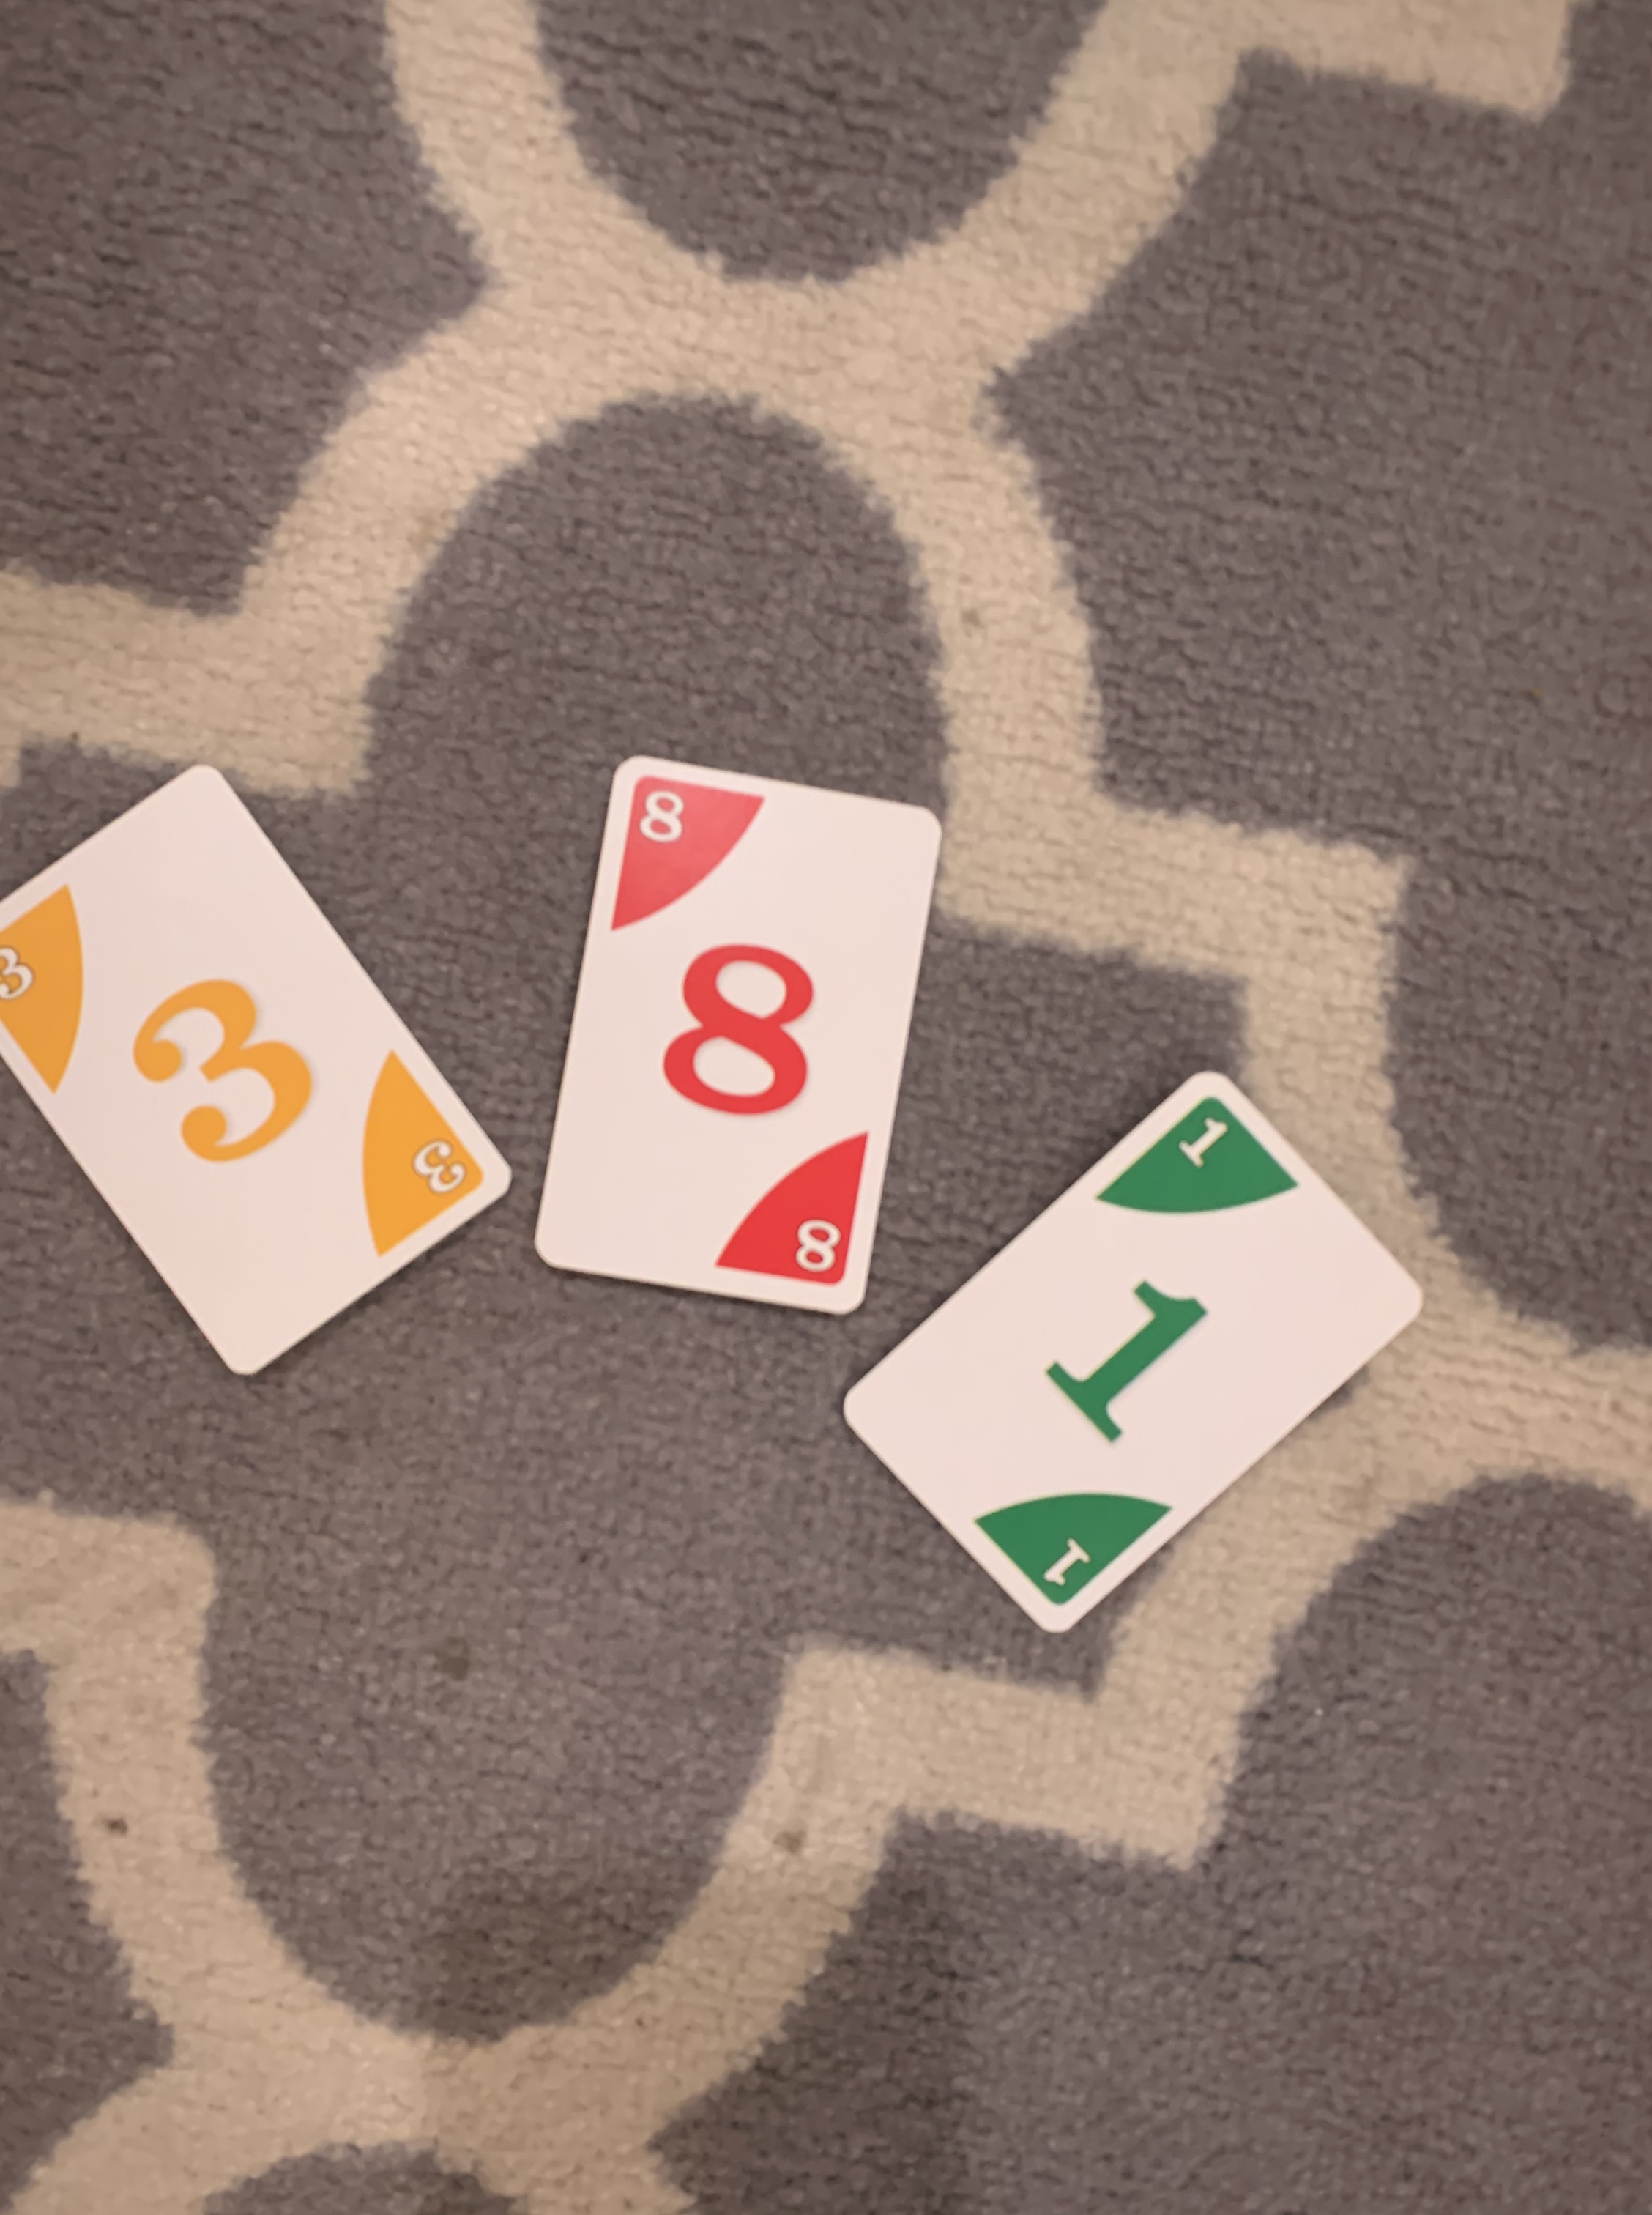eight: (502, 741, 961, 1326)
one: (821, 1045, 1437, 1658)
three: (0, 733, 528, 1390)
